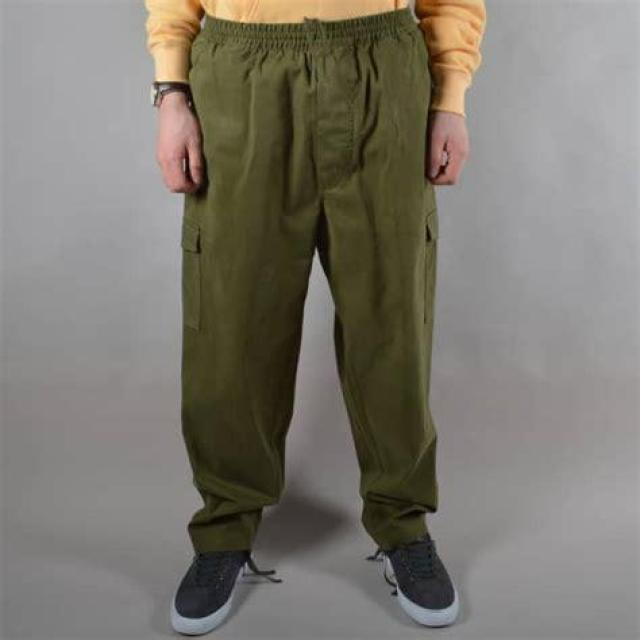pants: (182, 9, 440, 554)
